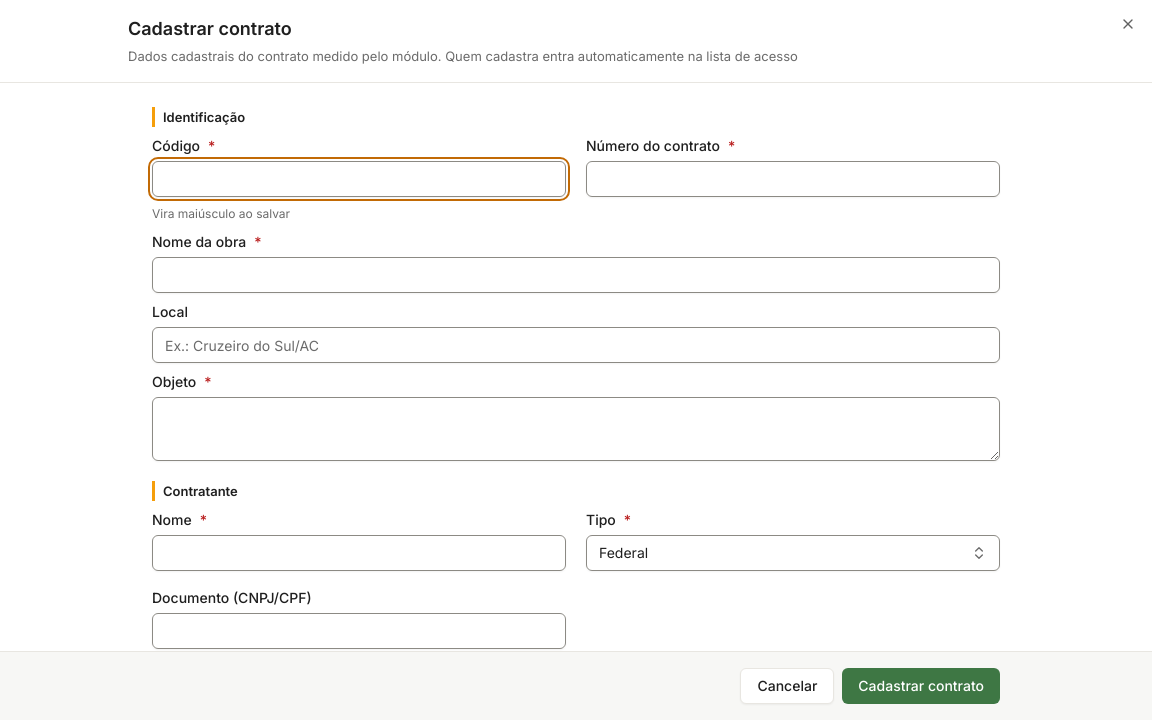
Scenario: ContratoFormDrawer › valor vazio não zera em silêncio: recusa o envio e avisa 'Informe o valor'
The width and height of the screenshot is (1152, 720).
Type "L09-BR364" into the field labelled "Código *" at [359, 179], box [152,161,566,197]
Type "BR-364 Lote 09" into the field labelled "Nome da obra *" at [576, 275], box [152,257,1000,293]
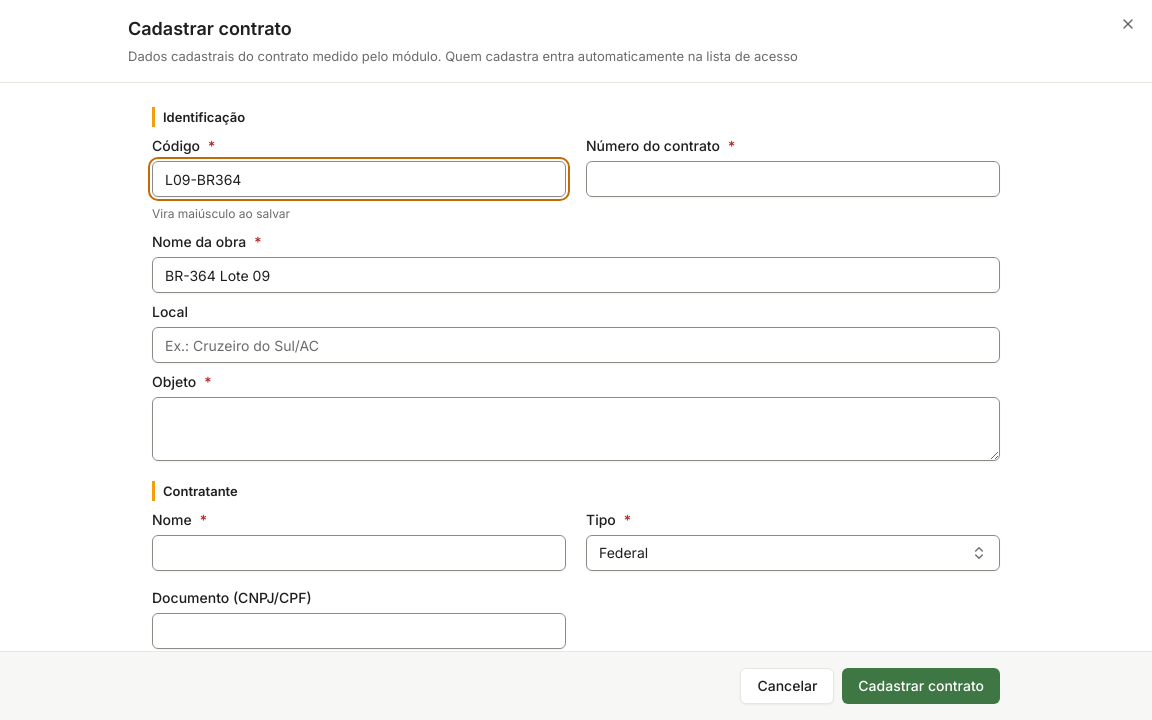
Type "Manutenção rodoviária" into the text box labelled "Objeto *" at [576, 429], box [152,397,1000,461]
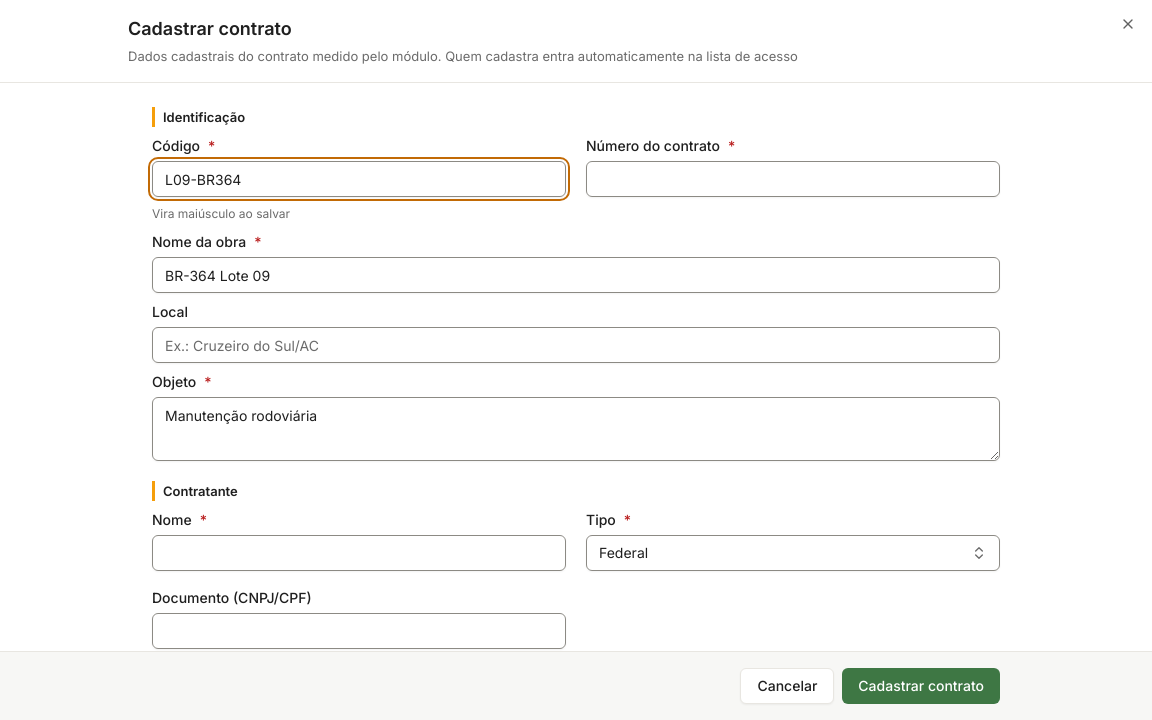
Type "00615/2025" into the field labelled "Número do contrato *" at [793, 179], box [586,161,1000,197]
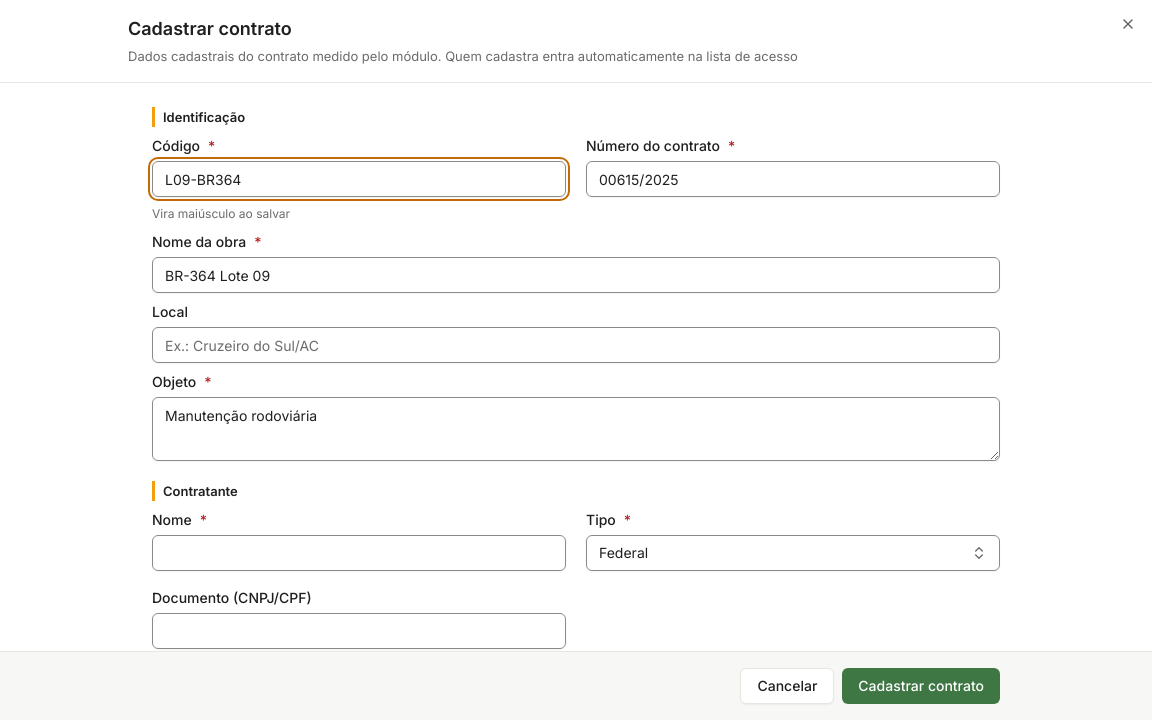
Type "DNIT" into the field labelled "Nome *" at [359, 553], box [152,535,566,571]
(page scrolled)
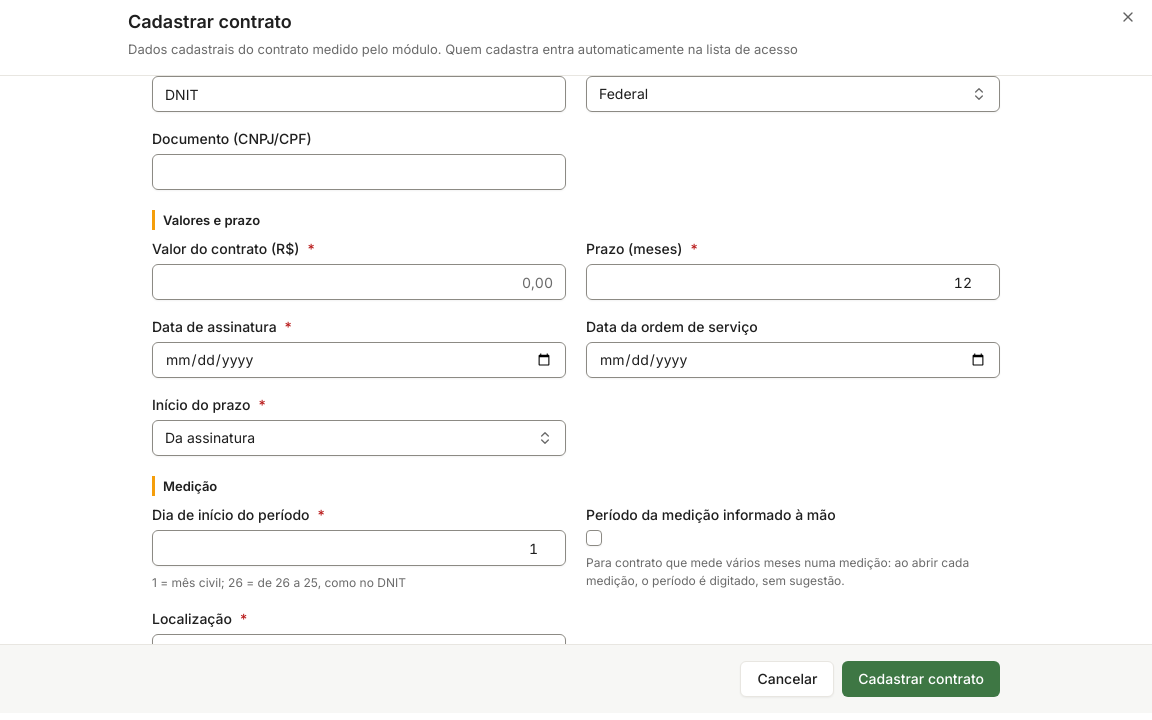
Type "2025-10-01" into the date field labelled "Data de assinatura *" at [359, 360], box [152,342,566,378]
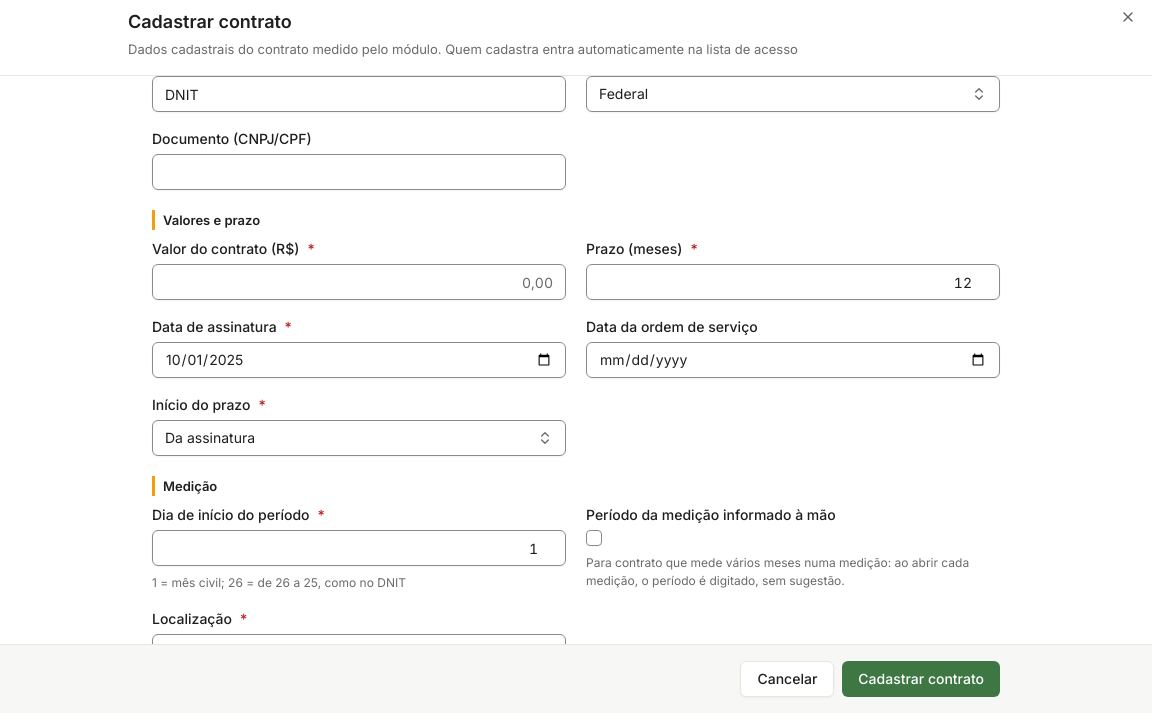
Click the button "Cadastrar contrato" at [921, 679], box [842,661,1000,697]
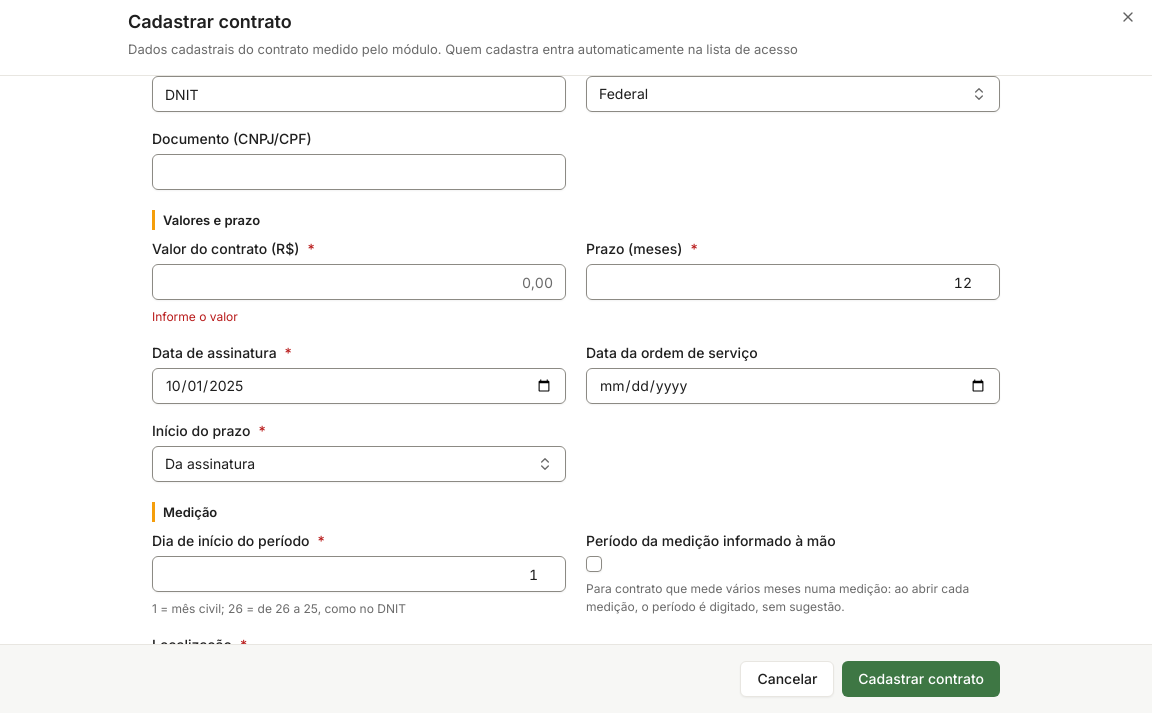
expect the message "Informe o valor" is shown: met, box [152,309,238,324]
